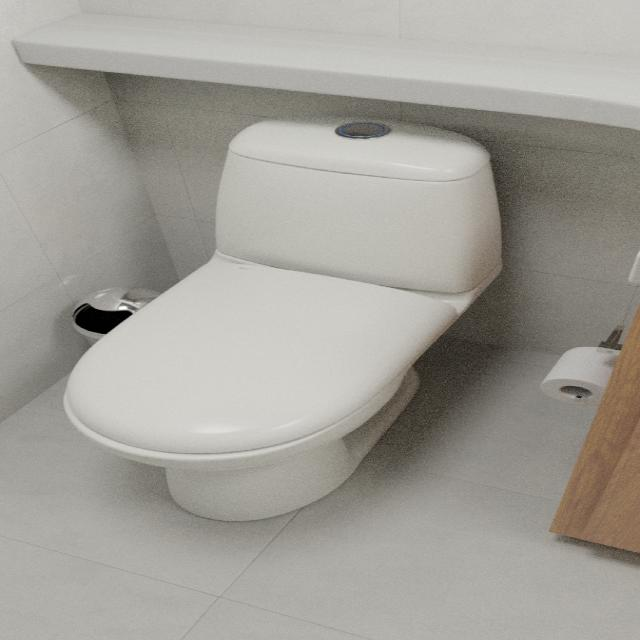toilet: (61, 116, 504, 522)
